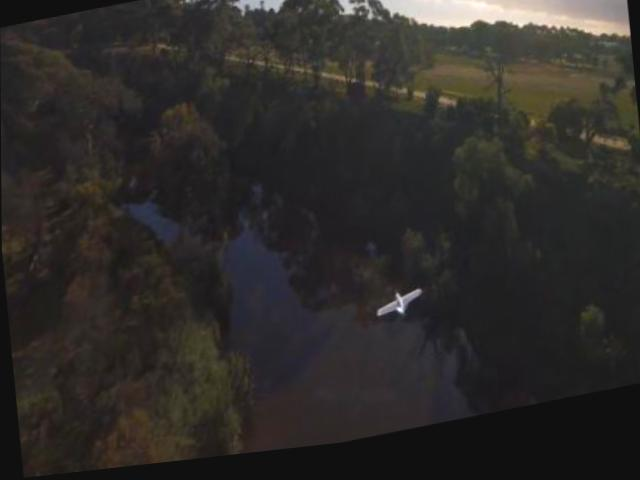uav: (372, 292, 424, 328)
